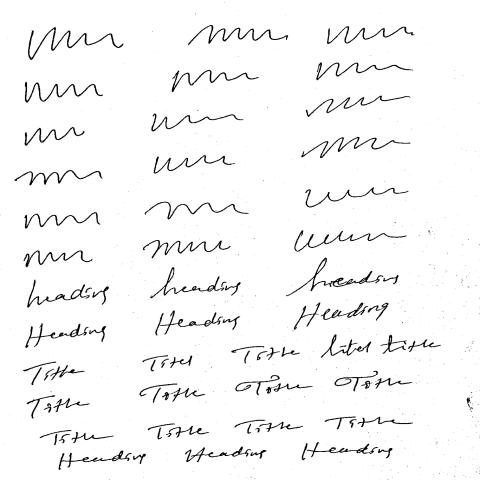Heading: (284, 258, 403, 300), (27, 27, 127, 62), (297, 134, 418, 162), (150, 267, 243, 302), (296, 298, 393, 331), (291, 229, 407, 255), (186, 26, 294, 53), (22, 320, 112, 352), (142, 199, 251, 223), (25, 279, 112, 309), (57, 446, 150, 473), (155, 310, 242, 337), (169, 68, 261, 93), (313, 59, 413, 82), (300, 441, 399, 464), (236, 374, 316, 400), (16, 166, 109, 188), (186, 443, 266, 468), (24, 82, 107, 106), (25, 393, 91, 422), (328, 414, 416, 435), (331, 371, 411, 393), (21, 360, 85, 387), (138, 384, 210, 406), (40, 427, 111, 449), (230, 344, 300, 366), (319, 334, 376, 360), (232, 418, 305, 437), (144, 423, 211, 442), (381, 335, 438, 355), (138, 354, 196, 373)
